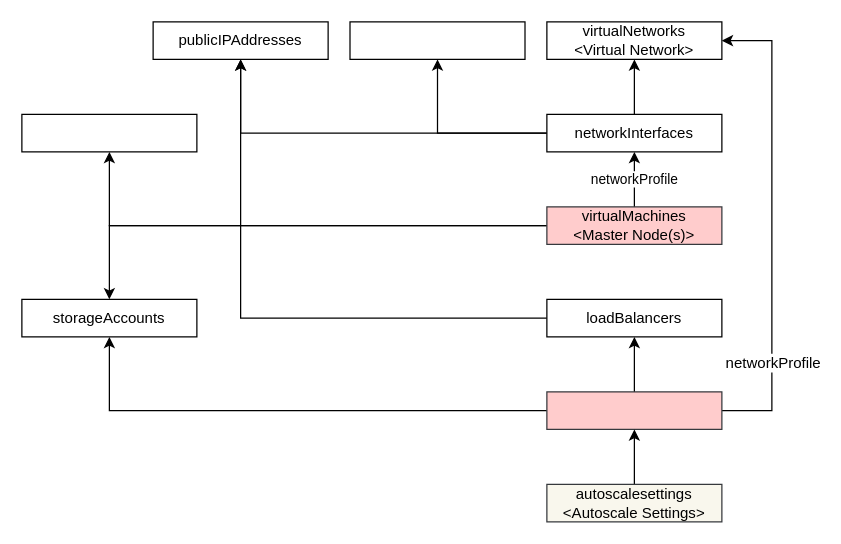
This 841x544 diagram has some shape labels left out. Here are the shapes that lost their labels. From the top down, the centre of each, then its label:
At [437,40]: "networkSecurityGroups".
At [109,132]: "availabilitySets".
At [634,410]: "virtualMachineScaleSets < Agent ScaleSet >".
